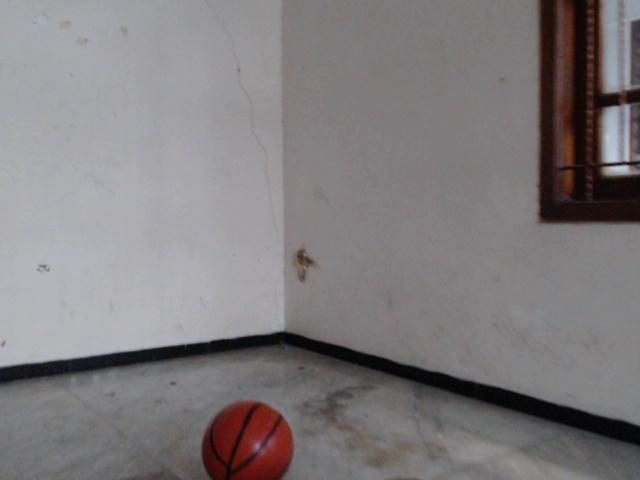Sports-Ball: (196, 402, 291, 480)
